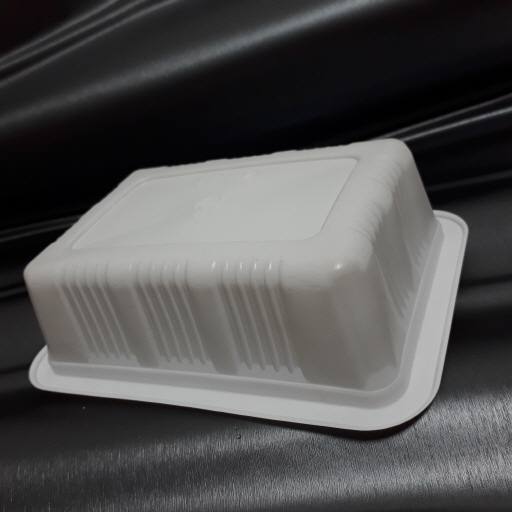Plastic_4: (20, 141, 470, 435)
